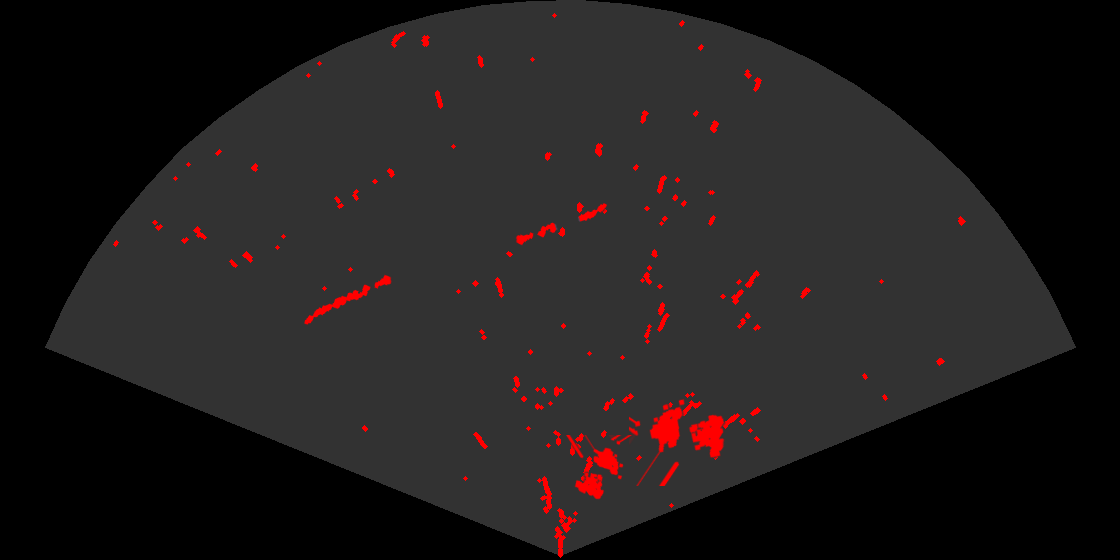cage: (629, 397, 726, 486), (565, 435, 634, 501)
chain: (303, 273, 393, 326), (514, 202, 609, 247)
